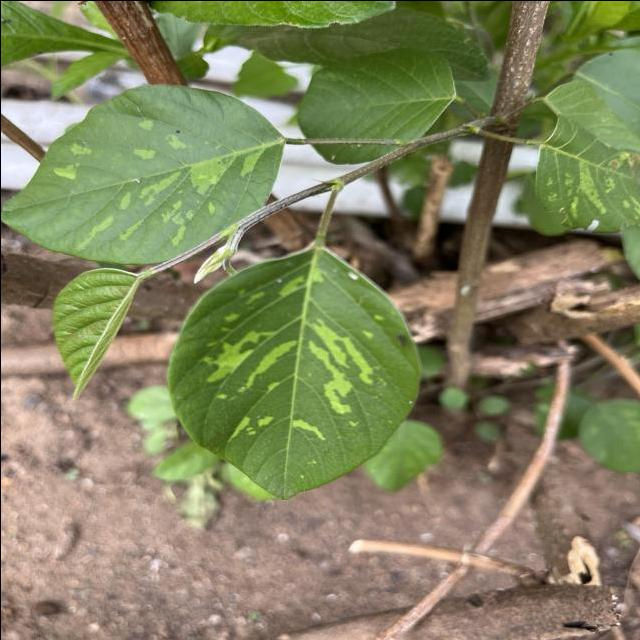Desmodium gangeticum: (0, 80, 288, 268)
